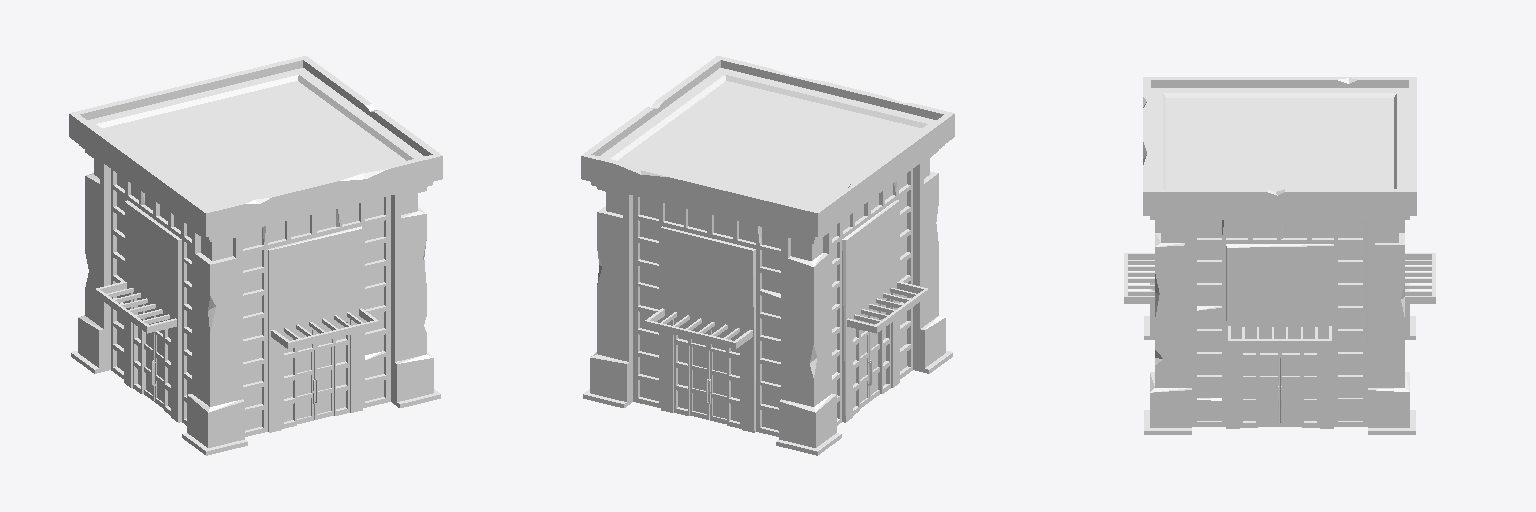
Rendered from house.obj.
3 views of the same model, side by side, from view 1: azimuth 30°, elevation 25°; view 2: azimuth 150°, elevation 25°; view 3: azimuth 270°, elevation 25° (orthographic).
Visible parts, largest first — view 1: SM_Bld_Station_01_网格; view 2: SM_Bld_Station_01_网格; view 3: SM_Bld_Station_01_网格.
Boxes of the visible parts, box(x1,y1,x2,y2) form: SM_Bld_Station_01_网格: box(69, 56, 442, 455); SM_Bld_Station_01_网格: box(581, 56, 954, 455); SM_Bld_Station_01_网格: box(1124, 77, 1435, 434).
Bounding box in the file's own units: 9.97 × 8.58 × 9.97.